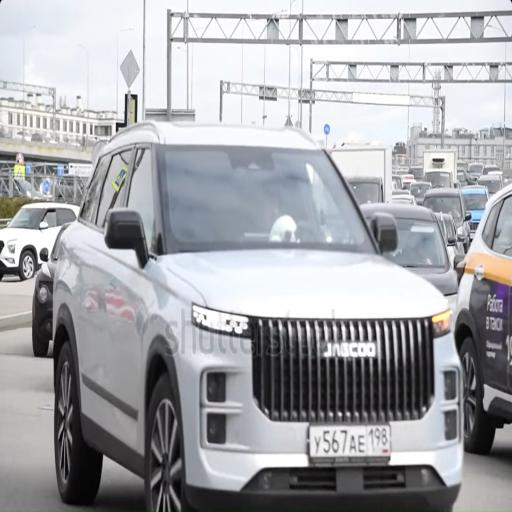License plates: (309, 425, 390, 459), (470, 232, 475, 240)
